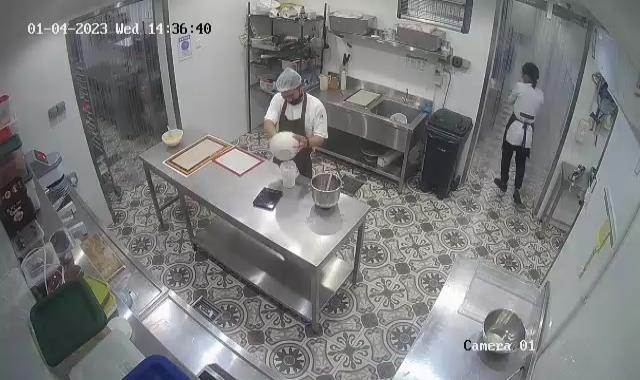hairnet: (276, 66, 308, 97)
no_hairnet: (521, 60, 541, 82)
